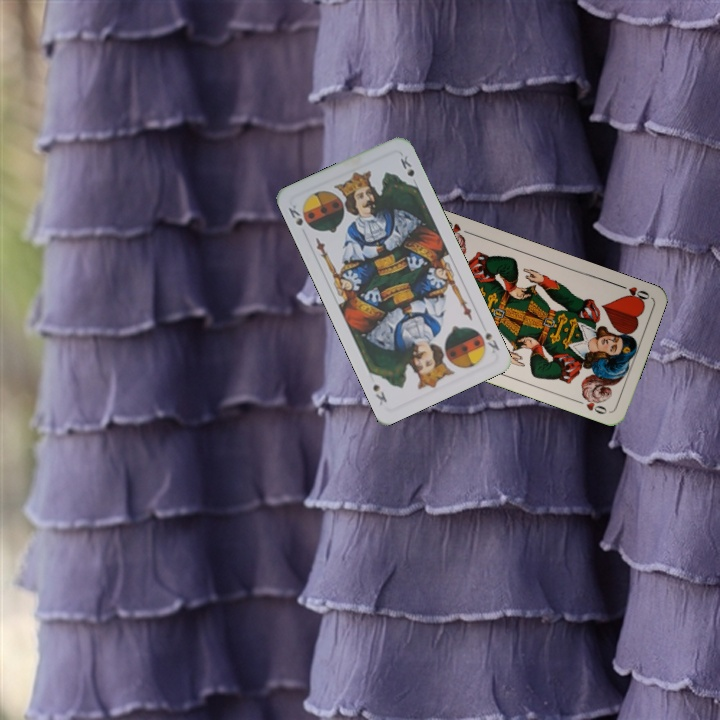HO: (613, 280, 652, 305)
SK: (284, 200, 306, 228), (481, 327, 502, 355)
